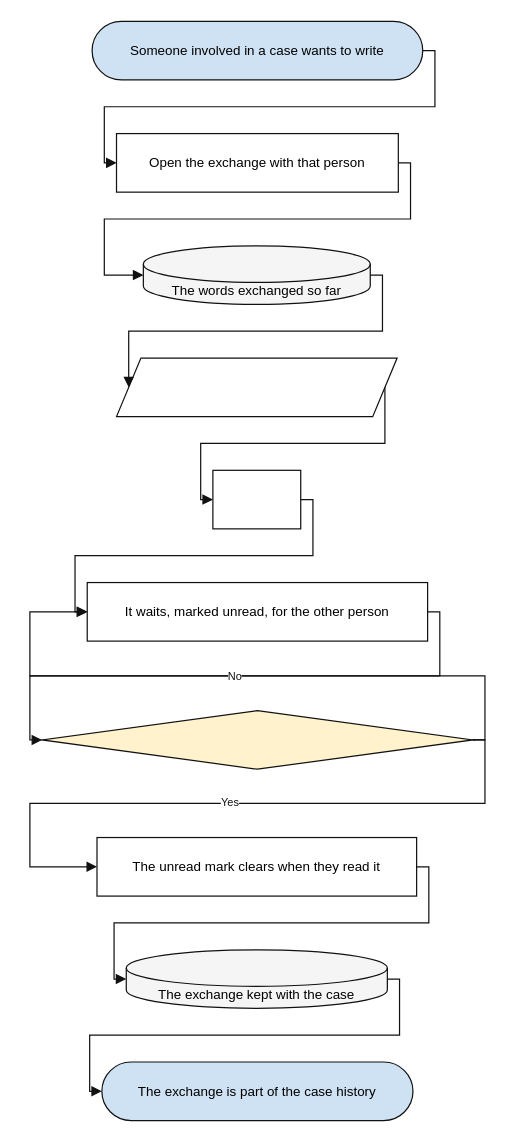
This 516x1142 diagram has some shape labels left out. Each missing label, with the box of its shape:
Has the other person opened it?: (41, 709, 473, 769)
Send it: (212, 469, 301, 529)
Write the message: (115, 357, 397, 417)
